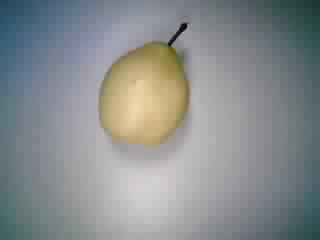pear: (93, 16, 198, 155)
